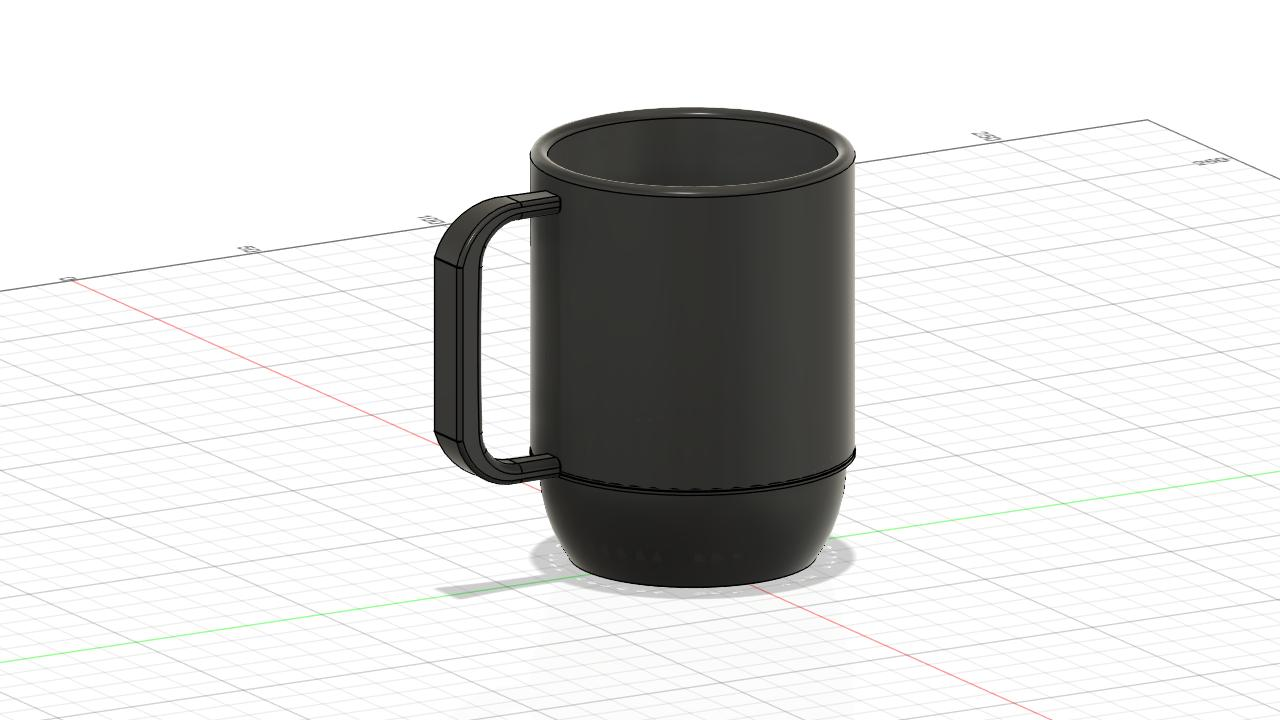mug-real100-3d100: (435, 109, 855, 587)
